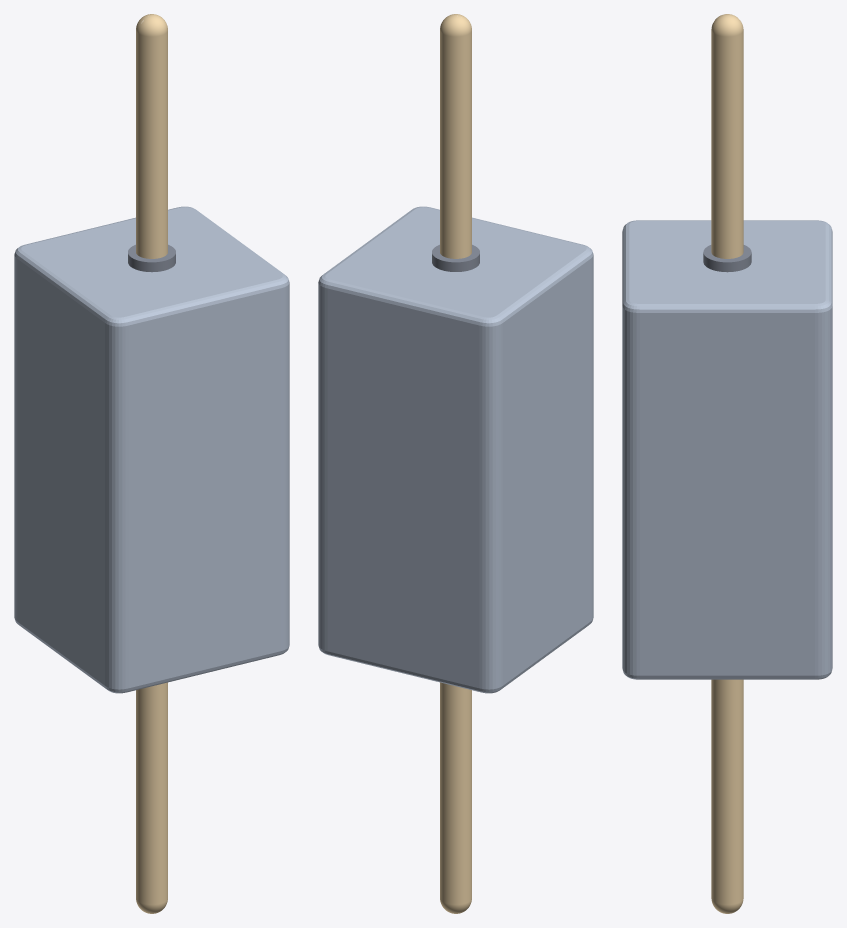
Rendered from candlestick.glb.
The picture shows the model from 3 angles, left to right: view 1: azimuth 30°, elevation 25°; view 2: azimuth 150°, elevation 25°; view 3: azimuth 270°, elevation 25°; orthographic projection.
Visible parts, largest first — view 1: body_glass, wick_rod, collar_close; view 2: body_glass, wick_rod, collar_close; view 3: body_glass, wick_rod, collar_close.
Part boxes in pixels (left/top/right/bottom): body_glass: left=14, top=206, right=289, bottom=693; wick_rod: left=136, top=14, right=167, bottom=913; collar_close: left=128, top=244, right=175, bottom=272; body_glass: left=318, top=206, right=593, bottom=693; wick_rod: left=440, top=14, right=471, bottom=913; collar_close: left=432, top=244, right=479, bottom=271; body_glass: left=622, top=220, right=832, bottom=679; wick_rod: left=711, top=14, right=743, bottom=913; collar_close: left=703, top=245, right=751, bottom=272.
Bounding box in the file's own units: 0.68 × 3.2 × 0.68.
